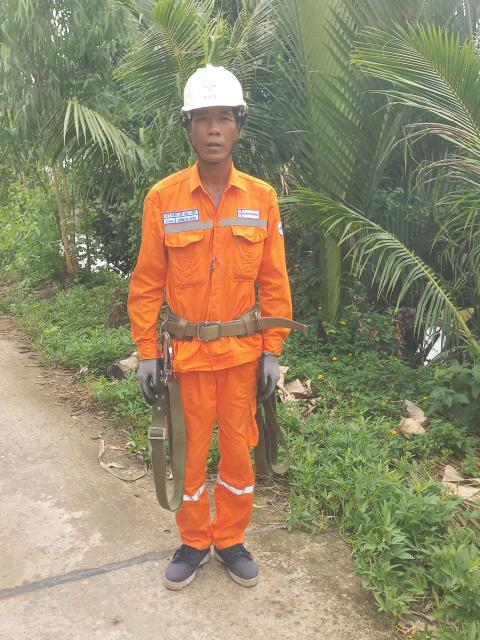gloves: (242, 347, 291, 405), (131, 357, 170, 419)
harness: (144, 297, 256, 348)
helmet: (159, 54, 245, 138)
shoes: (132, 527, 204, 591), (210, 535, 270, 596)
